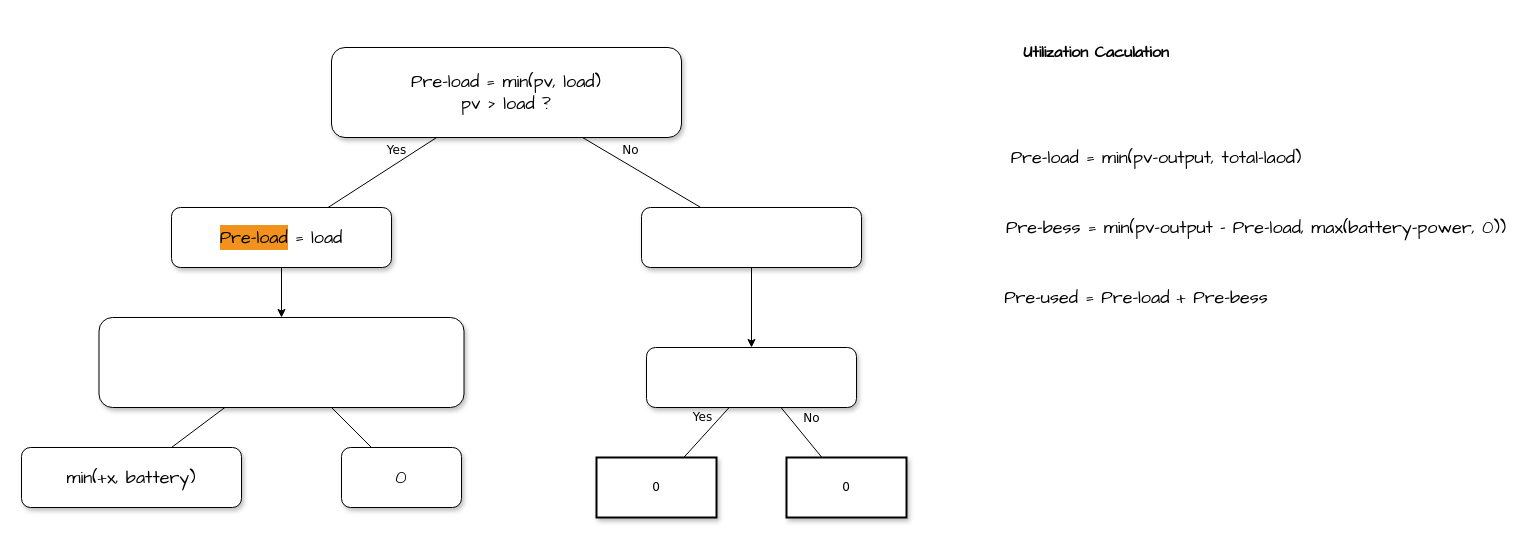
Some shapes in this 1539 by 542 pixel diagram are drawn without their labels. Each missing label, with the centre of its shape:
min(0, max(battery,0)): point 752,378
Pre-bess = min(+x, max(battery,o)) battery > 0?: point 282,363
Pre-load = pv: point 752,238
